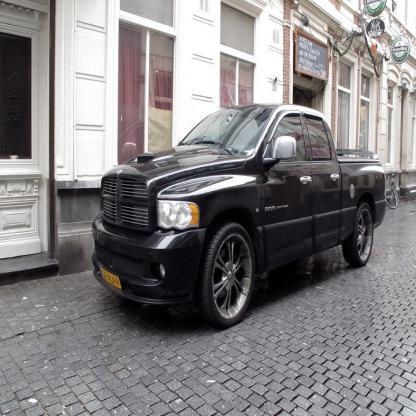Truck: (91, 101, 387, 328)
